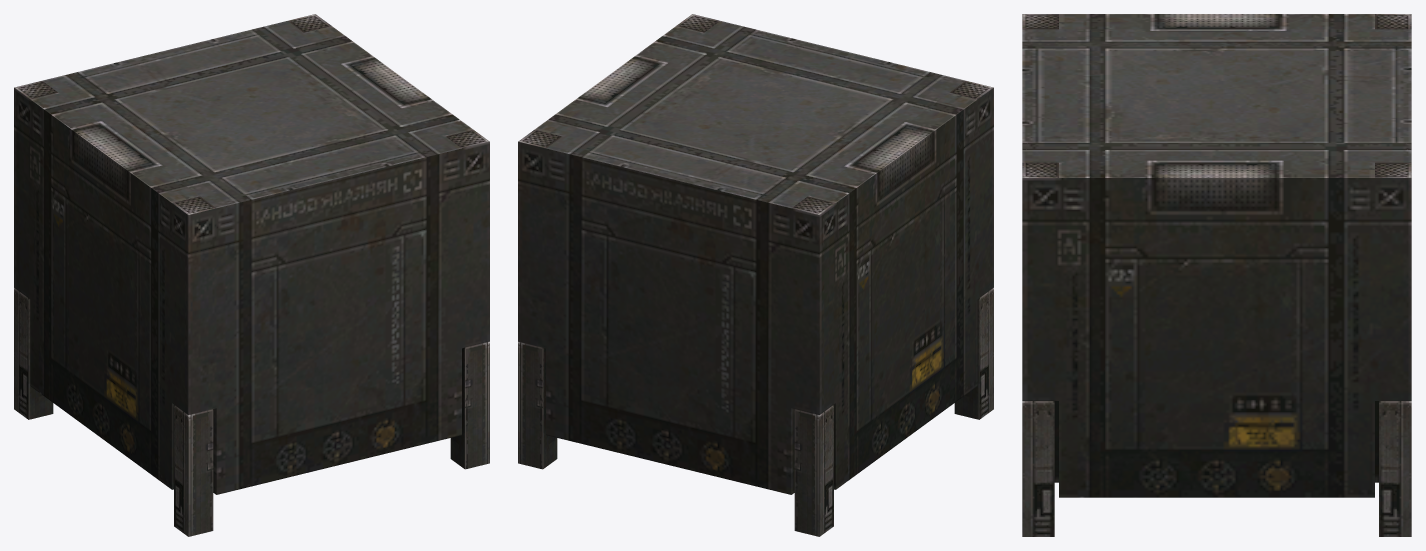
File: Vehicle_Box001.glb
3 views of the same model, side by side, from view 1: azimuth 30°, elevation 25°; view 2: azimuth 150°, elevation 25°; view 3: azimuth 270°, elevation 25° (orthographic). The views are drawn at different scales.
Visible parts, largest first — view 1: tianwang_box001; view 2: tianwang_box001; view 3: tianwang_box001.
Part boxes in pixels (x1=…): tianwang_box001: x1=14, y1=14, x2=489, y2=536; tianwang_box001: x1=518, y1=14, x2=993, y2=536; tianwang_box001: x1=1022, y1=14, x2=1411, y2=536.
Size of the model in its own units: 1.1 by 1.12 by 1.1.
1 material, 1 textured.
